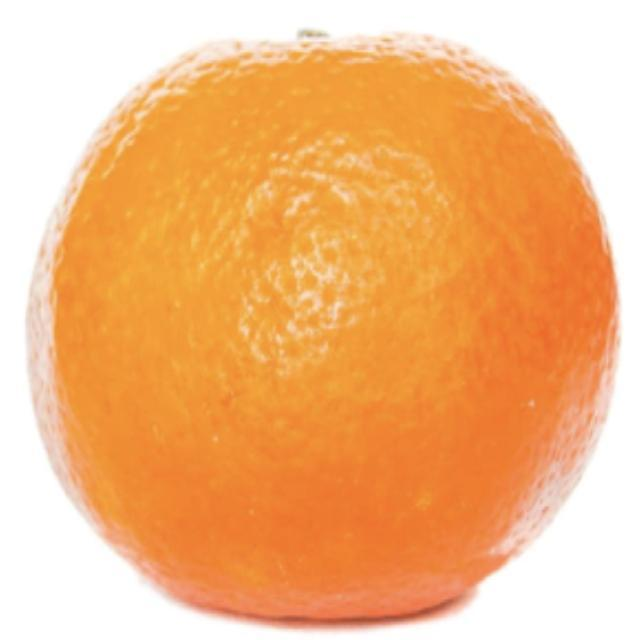Orange: (24, 27, 621, 626)
